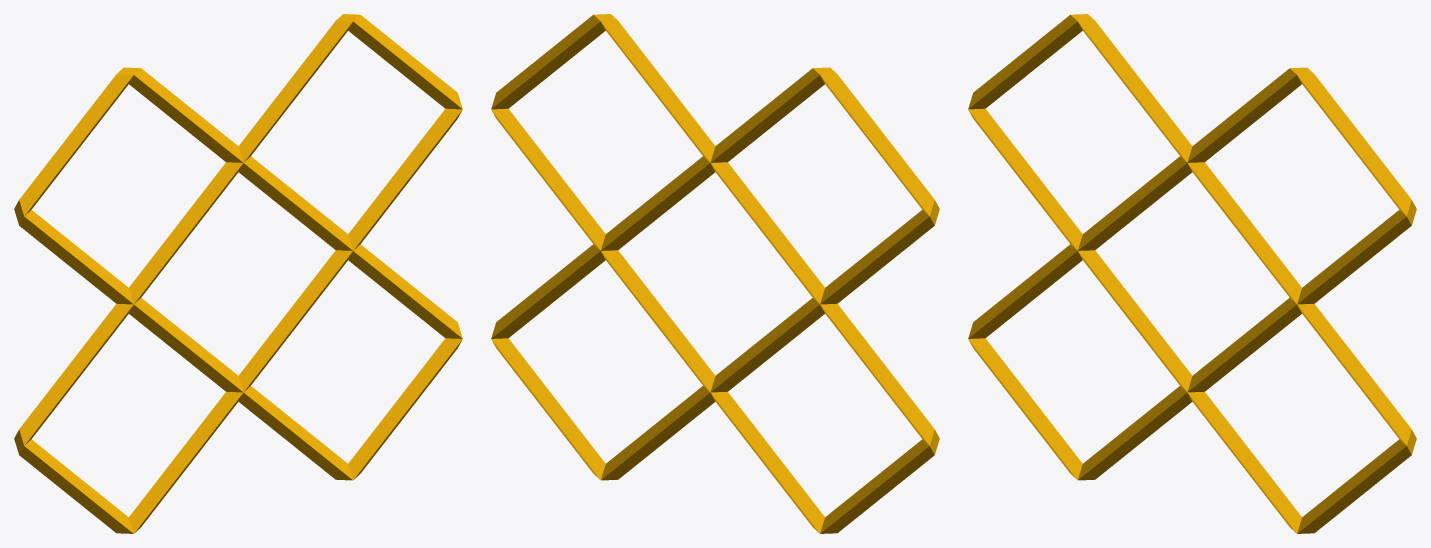
Rendered from sp_chainlink.dae.
3 views of the same model, side by side, from view 1: azimuth 30°, elevation 25°; view 2: azimuth 150°, elevation 25°; view 3: azimuth 330°, elevation 25° (orthographic).
Parts seen in each view (by area): view 1: chainlink_d; view 2: chainlink_d; view 3: chainlink_d.
Boxes of the visible parts, box(x1,y1,x2,y2) form: chainlink_d: box(14, 14, 462, 533); chainlink_d: box(491, 14, 939, 533); chainlink_d: box(968, 14, 1416, 533).
Bounding box in the file's own units: 0.25 × 0.01 × 0.25.
